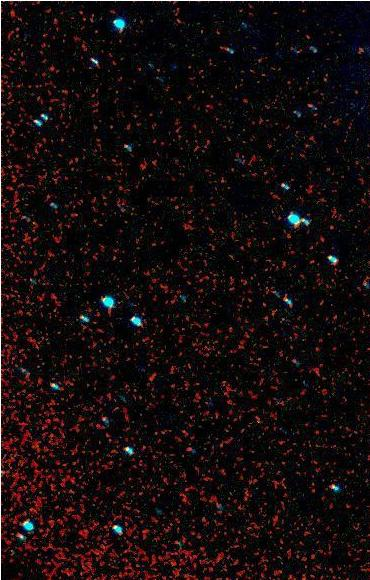star: (345, 36, 370, 66)
